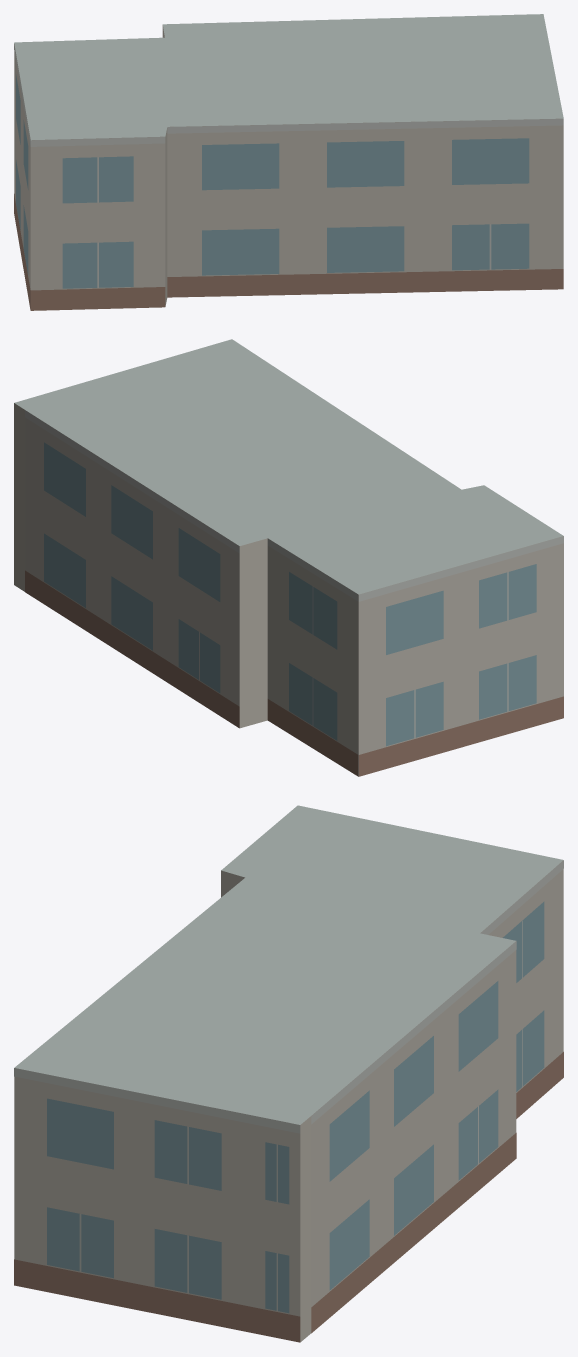
File: survey-upis-32954473.glb
3 views of the same model, one above another, from view 1: azimuth 30°, elevation 25°; view 2: azimuth 150°, elevation 25°; view 3: azimuth 270°, elevation 25° (orthographic). The views are drawn at different scales.
Parts seen in each view (by area): view 1: survey-upis-32954473.tmp; view 2: survey-upis-32954473.tmp; view 3: survey-upis-32954473.tmp.
Boxes of the visible parts, x1,y1,x2,y2 form: survey-upis-32954473.tmp: (14,14,563,310); survey-upis-32954473.tmp: (14,339,563,776); survey-upis-32954473.tmp: (14,805,563,1342).
Bounding box in the file's own units: 19.23 × 6.1 × 13.98.
